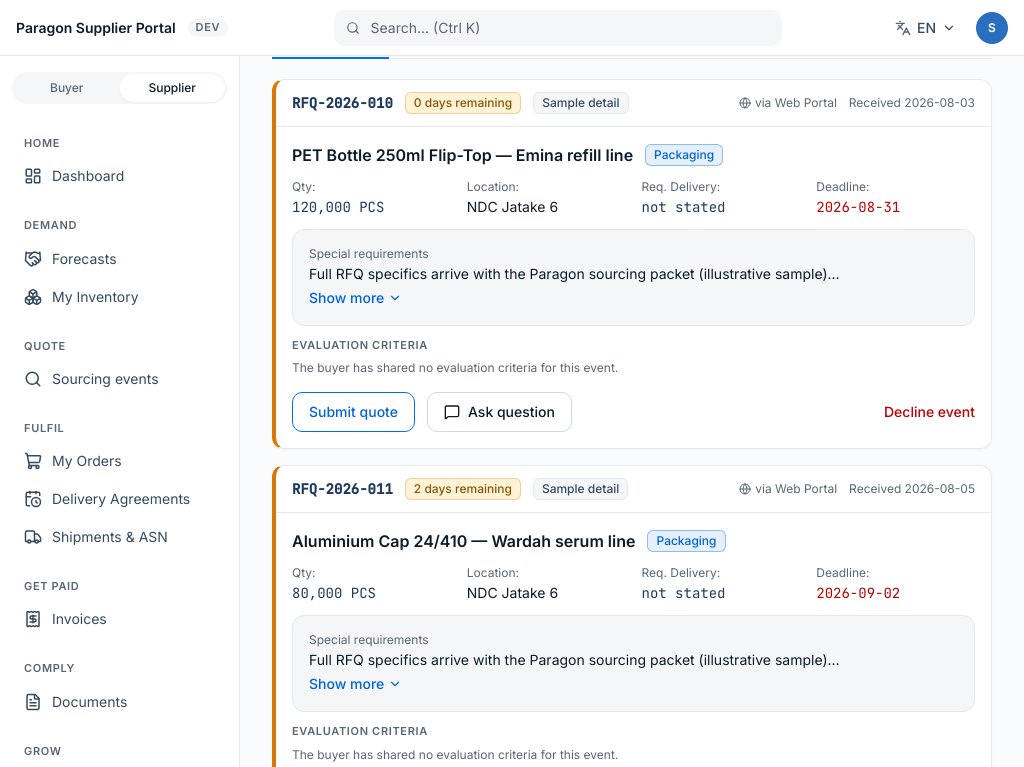
it: SupplierRFQs — the bid price is read once, and refused out loud › POSITIVE TWIN — a clean price clears the field refusal and previews the true total
The width and height of the screenshot is (1024, 767).
(page scrolled)
Expected: the text "RFQ-2026-010" is shown, [292,93,393,113]
Click the button "Submit quote" at (354, 412), box [292,392,415,432]
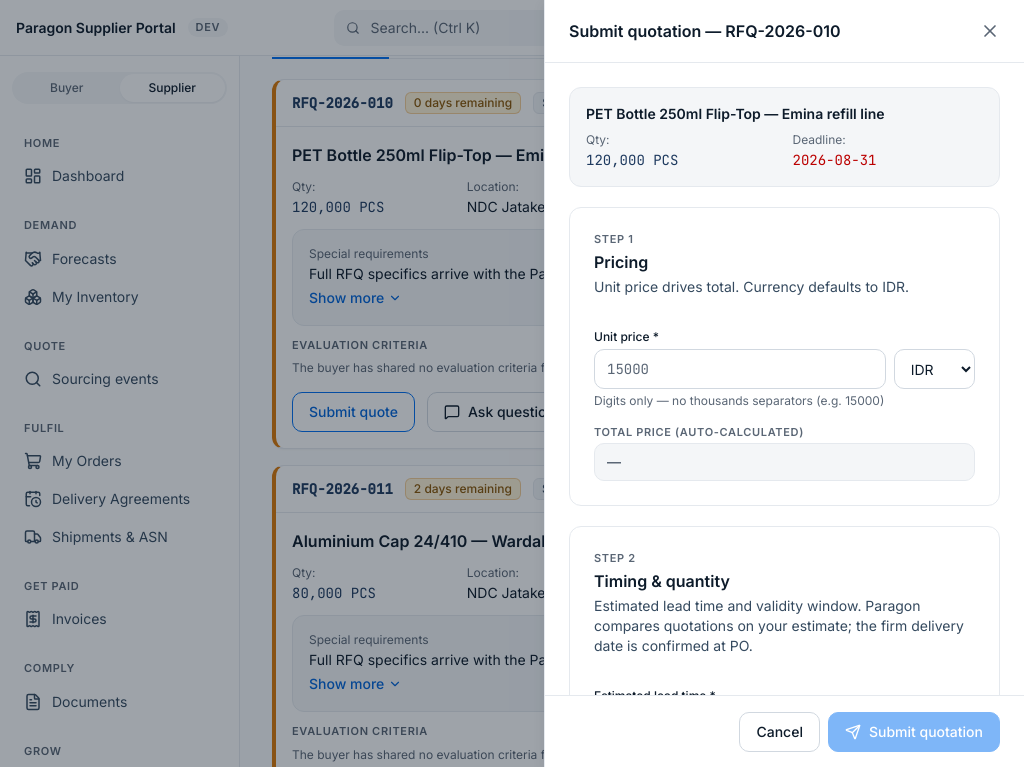
Type "1.500" into the field labelled "Unit price" at (740, 369), box [594,349,886,389]
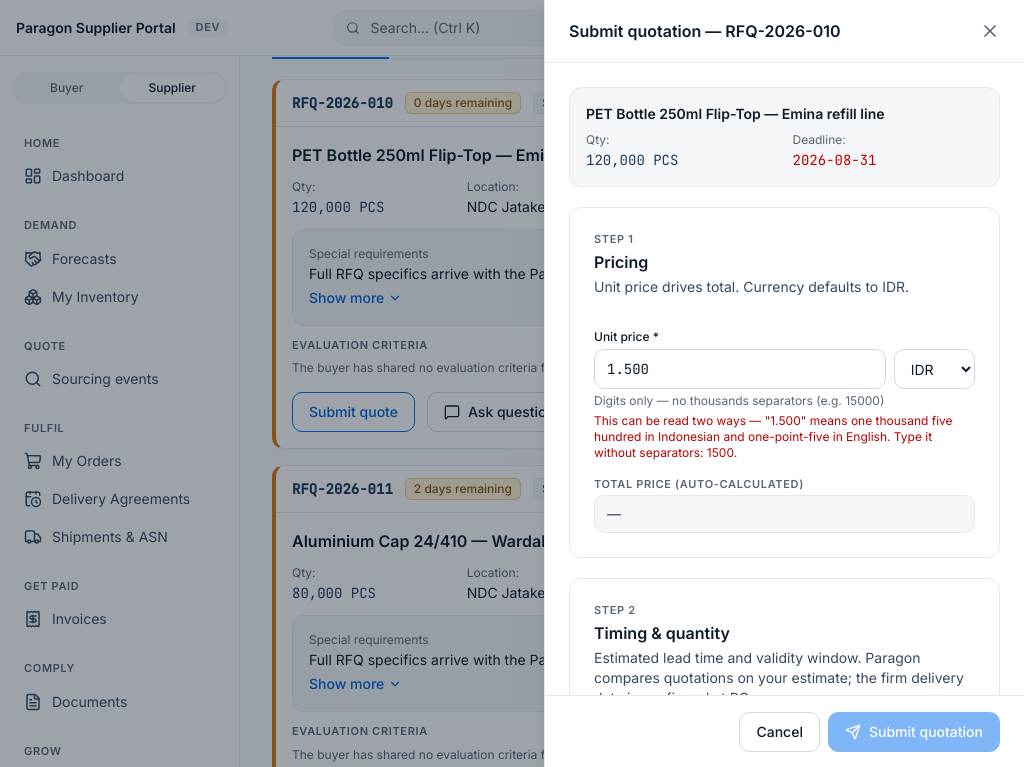
Expected: the message with test id "quote-price-refusal" is shown, [594,413,953,460]
Replace the text in the field labelled "Unit price" with "1500" at (740, 369), box [594,349,886,389]
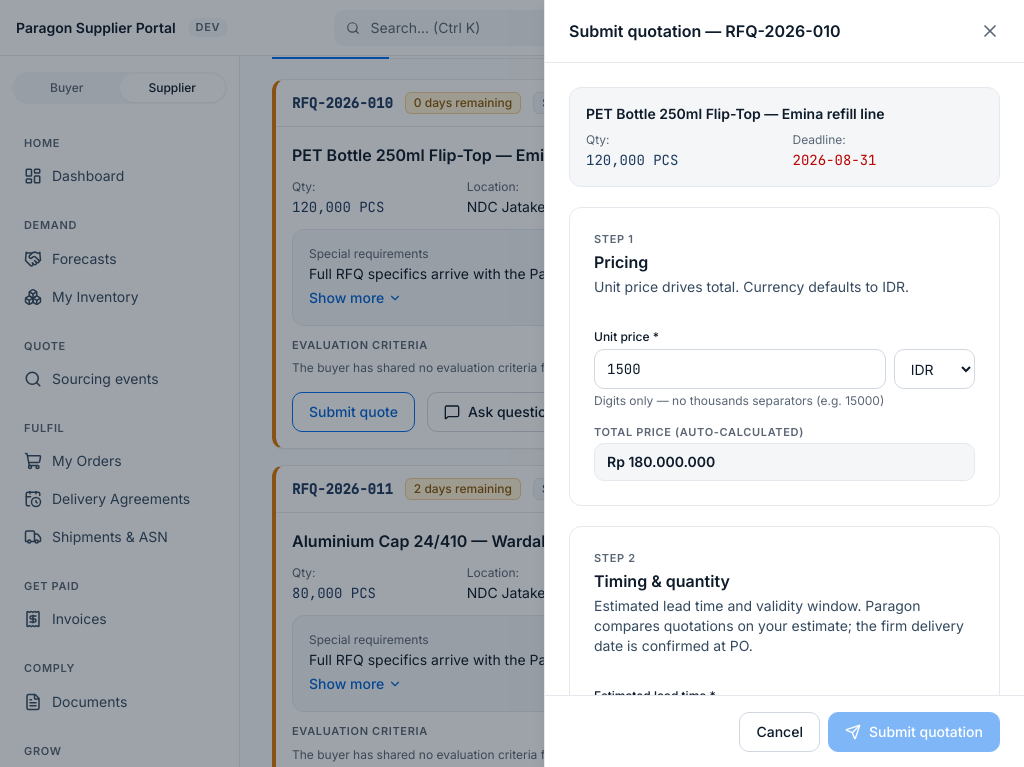
Expected: the message with test id "quote-price-refusal" is gone
Expected: the text "Rp 180.000.000" is shown, [594,443,975,481]
